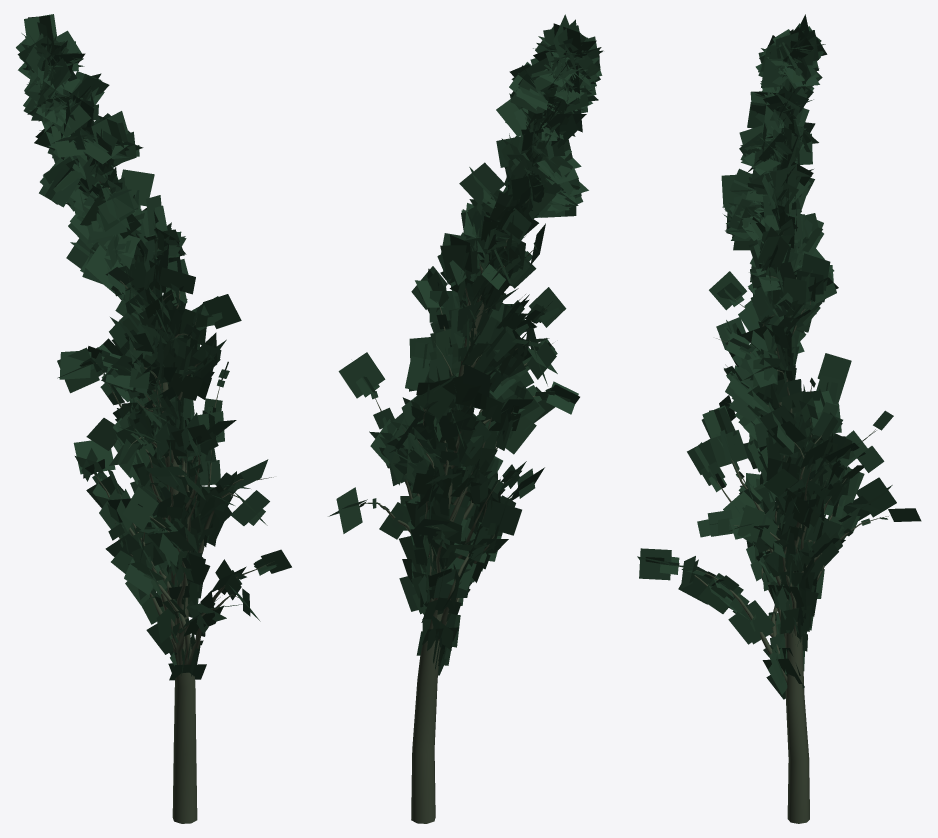
The model's file is meadow-spruce-b.glb.
The picture shows the model from 3 angles, left to right: view 1: azimuth 30°, elevation 25°; view 2: azimuth 150°, elevation 25°; view 3: azimuth 270°, elevation 25°; orthographic projection. The views are drawn at different scales.
Parts seen in each view (by area): view 1: leaves, bark; view 2: leaves, bark; view 3: leaves, bark.
Boxes of the visible parts, x1=… form: leaves: x1=16, y1=14, x2=291, y2=680; bark: x1=84, y1=139, x2=274, y2=823; leaves: x1=328, y1=14, x2=603, y2=675; bark: x1=359, y1=199, x2=552, y2=823; leaves: x1=637, y1=14, x2=921, y2=699; bark: x1=676, y1=233, x2=888, y2=823.
Size of the model in its own units: 11.94 by 39.94 by 14.08.
